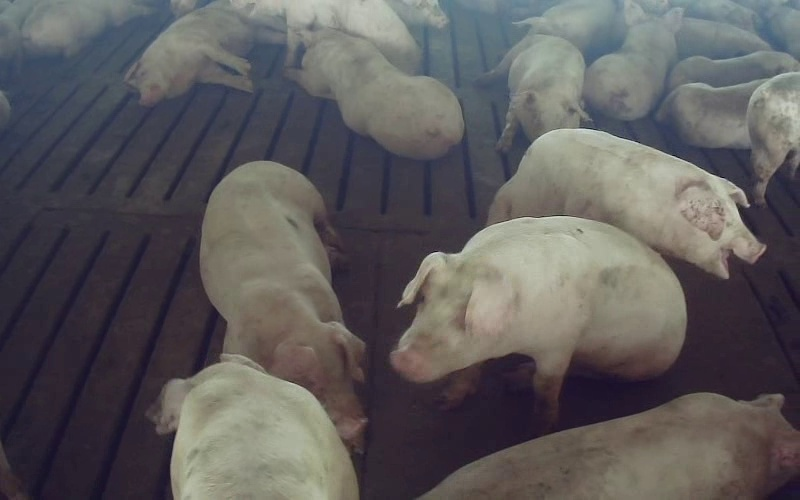pig: (390, 217, 686, 431), (201, 162, 366, 449), (488, 129, 765, 278), (419, 393, 799, 499), (147, 354, 357, 499), (287, 29, 463, 159), (124, 0, 285, 106), (476, 35, 588, 151), (583, 0, 682, 120), (286, 0, 420, 73), (655, 79, 765, 148), (22, 0, 154, 56), (667, 51, 799, 90)
